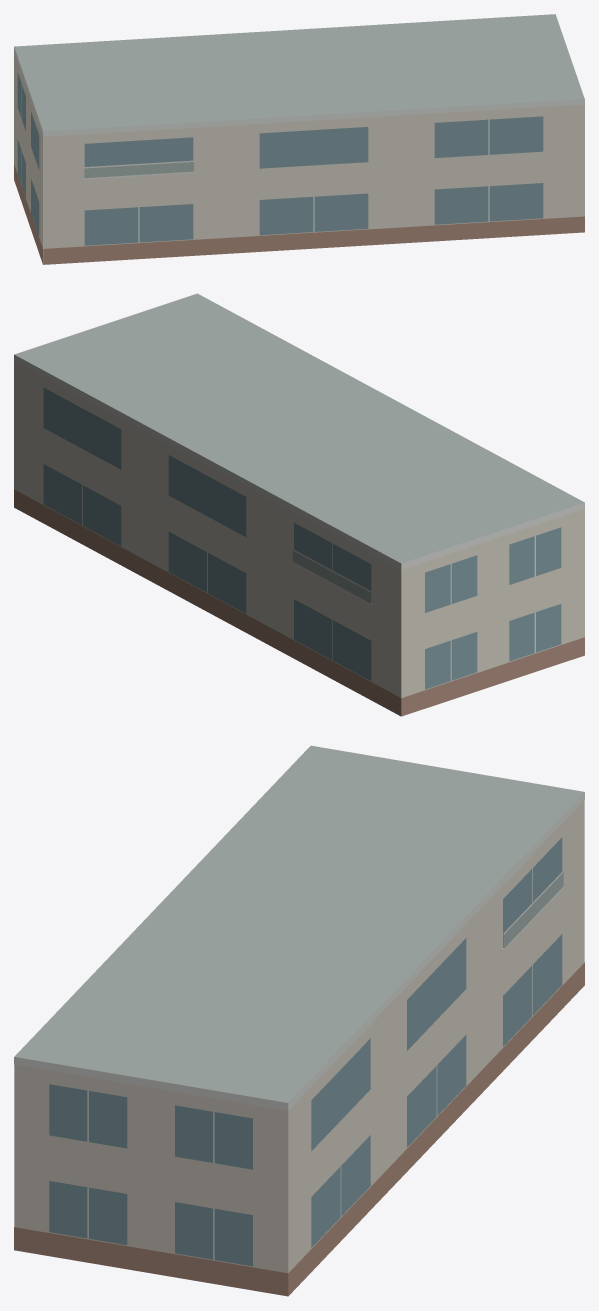
File: survey-upis-32812760.glb
The picture shows the model from 3 angles, top to bottom: view 1: azimuth 30°, elevation 25°; view 2: azimuth 150°, elevation 25°; view 3: azimuth 270°, elevation 25°; orthographic projection. The views are drawn at different scales.
Parts seen in each view (by area): view 1: survey-upis-32812760.tmp; view 2: survey-upis-32812760.tmp; view 3: survey-upis-32812760.tmp.
Part boxes in pixels (bbox=[...]): survey-upis-32812760.tmp: bbox=[14, 14, 584, 264]; survey-upis-32812760.tmp: bbox=[14, 293, 584, 716]; survey-upis-32812760.tmp: bbox=[14, 745, 584, 1296].
Size of the model in its own units: 24.19 by 6.1 by 16.32.
